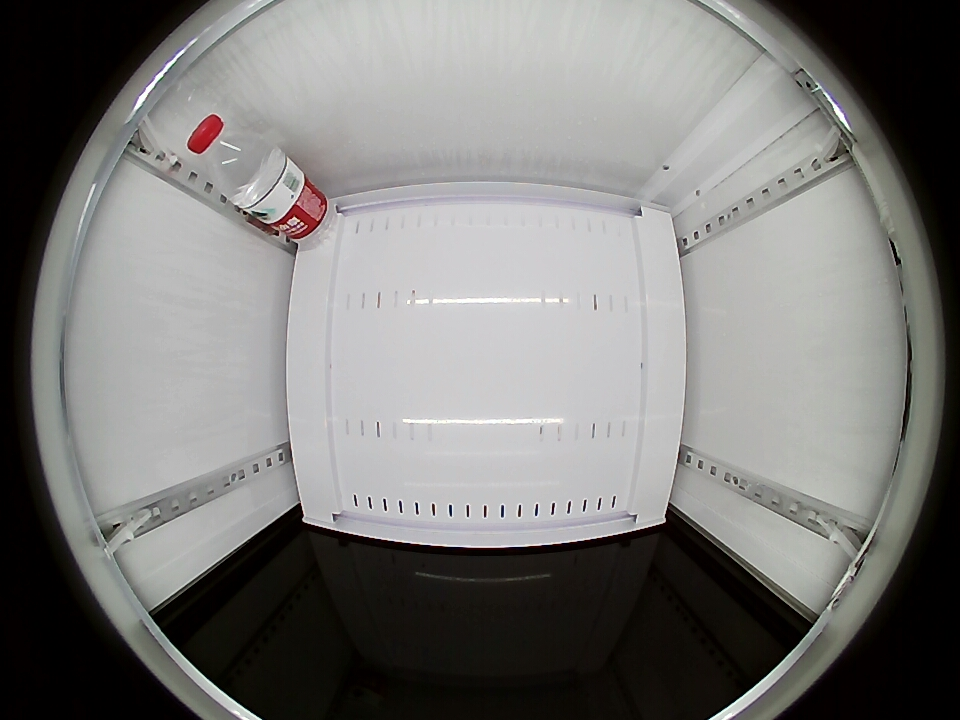nongfushanquan: (187, 114, 277, 200)
